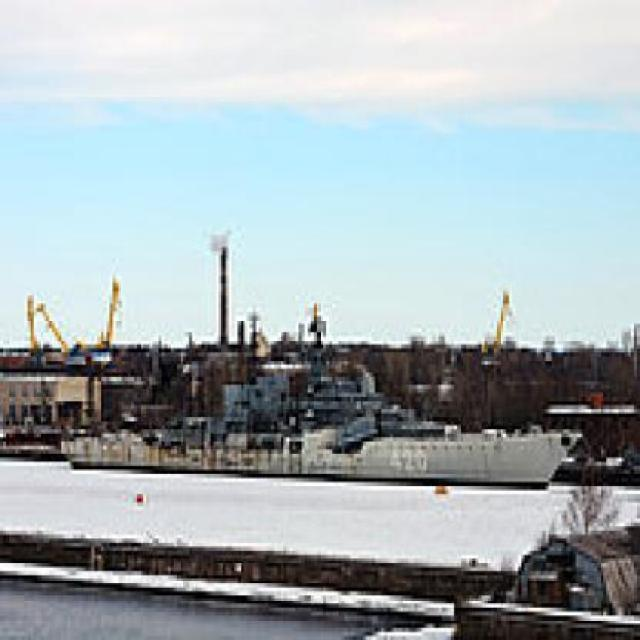warship2: (62, 349, 583, 491)
